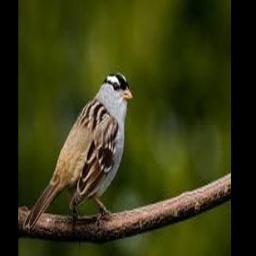Sparrow: (23, 71, 133, 233)
